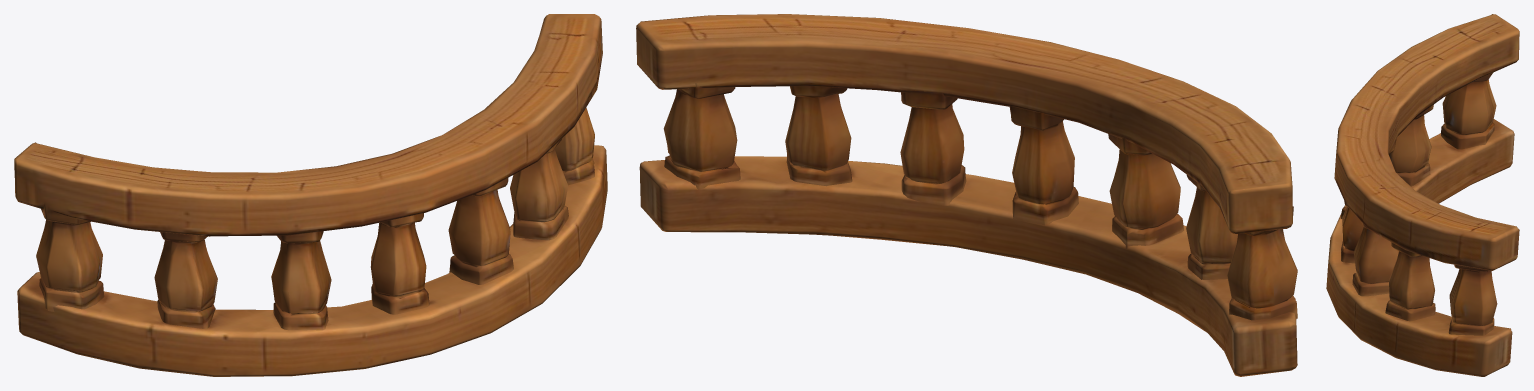
File: rail_stern.glb
3 views of the same model, side by side, from view 1: azimuth 30°, elevation 25°; view 2: azimuth 150°, elevation 25°; view 3: azimuth 270°, elevation 25° (orthographic). The views are drawn at different scales.
Parts seen in each view (by area): view 1: rail; view 2: rail; view 3: rail.
Boxes of the visible parts, x1,y1,x2,y2 form: rail: (14,14,607,376); rail: (636,14,1297,376); rail: (1326,14,1519,376).
Size of the model in its own units: 2.45 by 0.805 by 0.8746.
1 material, 1 textured.
